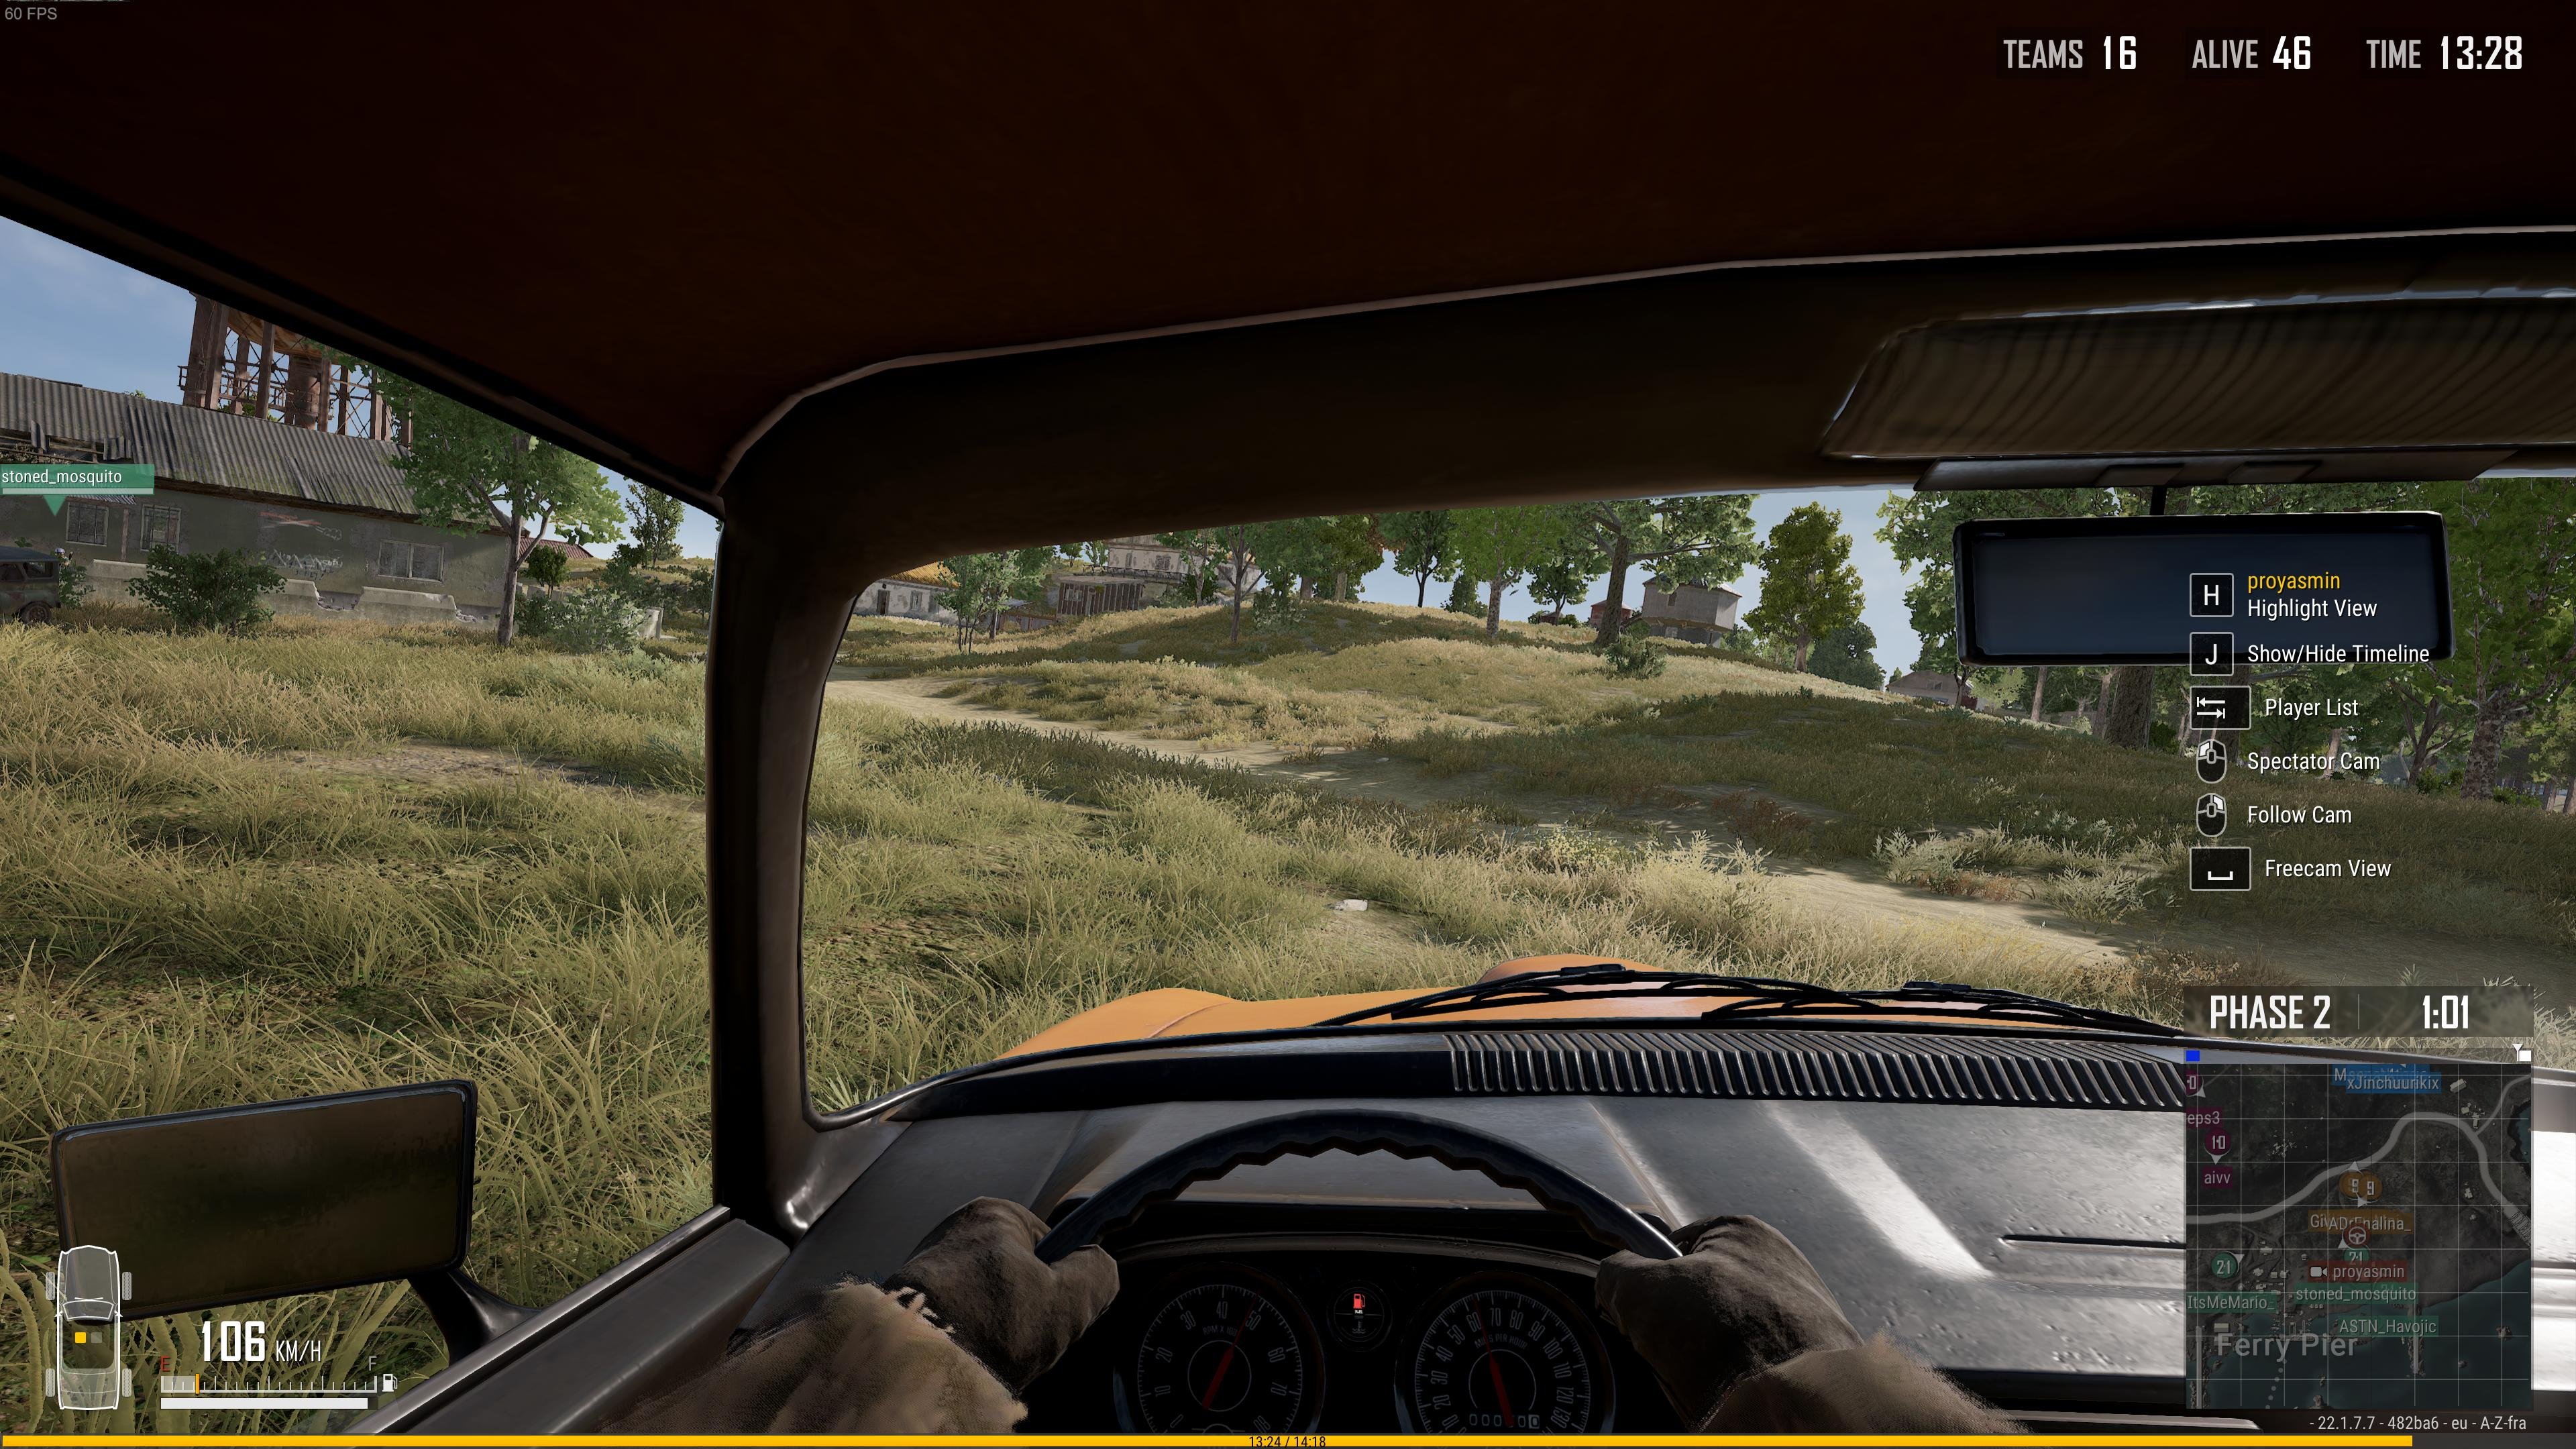enemy: (53, 545, 76, 571)
enemy_head: (53, 547, 65, 559)
